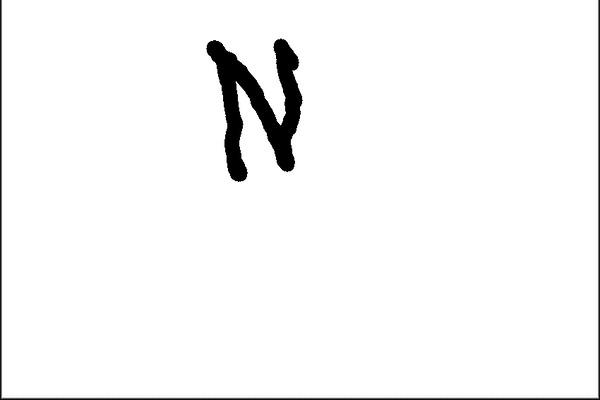N: (199, 29, 306, 185)
